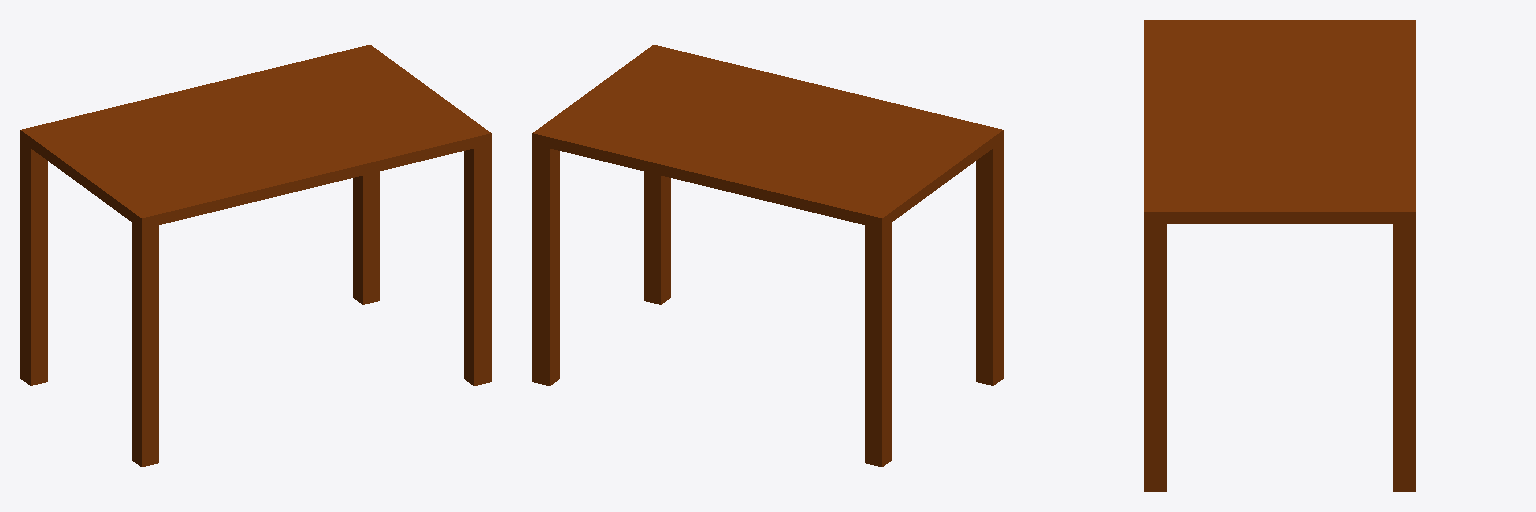
URDF robot description (table):
<robot name="table">
  <link name="table_link">
    
    <!-- Table Visual (Center of Mass at the Geometric Center) -->
    <visual>
      <origin xyz="0 0 0" rpy="0 0 0"/>  <!-- Keep everything centered -->
      <geometry>
        <mesh filename="package://gazebo_assets/meshes/table.stl" scale="0.0005 0.0005 0.0005"/>
      </geometry>
      <material name="brown">
        <color rgba="0.545 0.271 0.075 1"/>
      </material>
    </visual>

    <!-- Table Collision -->
    <collision>
      <origin xyz="0 0 0" rpy="0 0 0"/>  <!-- Keep collision model at the same location -->
      <geometry>
        <mesh filename="package://gazebo_assets/meshes/table.stl" scale="0.0005 0.0005 0.0005"/>
      </geometry>
    </collision>

    <!-- Inertia (Center of Mass at the Geometric Center) -->
    <inertial>
      <origin xyz="0 0 0" rpy="0 0 0"/>  <!-- CoM is at the geometric center -->
      <mass value="10.0"/>
      <inertia ixx="1.0" ixy="0.0" ixz="0.0"
               iyy="1.0" iyz="0.0"
               izz="1.0"/>
    </inertial>
  </link>
</robot>

--- Facts derived from the render (not from the file) ---
Views: 3 orthographic renders of the robot side by side, from view 1: azimuth 30°, elevation 25°; view 2: azimuth 150°, elevation 25°; view 3: azimuth 270°, elevation 25°.
Robot: table — 1 links, 0 joints (none); root link table_link; default pose: all joints at 0.
Visible links, largest first — view 1: table_link; view 2: table_link; view 3: table_link.
Boxes of the visible links, x1,y1,x2,y2 form: table_link: (20,45,491,466); table_link: (532,45,1003,466); table_link: (1144,20,1415,491).
Size in the robot's own frame: 0.5 by 0.3 by 0.34 metres.
1 mesh visuals loaded from 1 distinct referenced files (1 binary STL).
